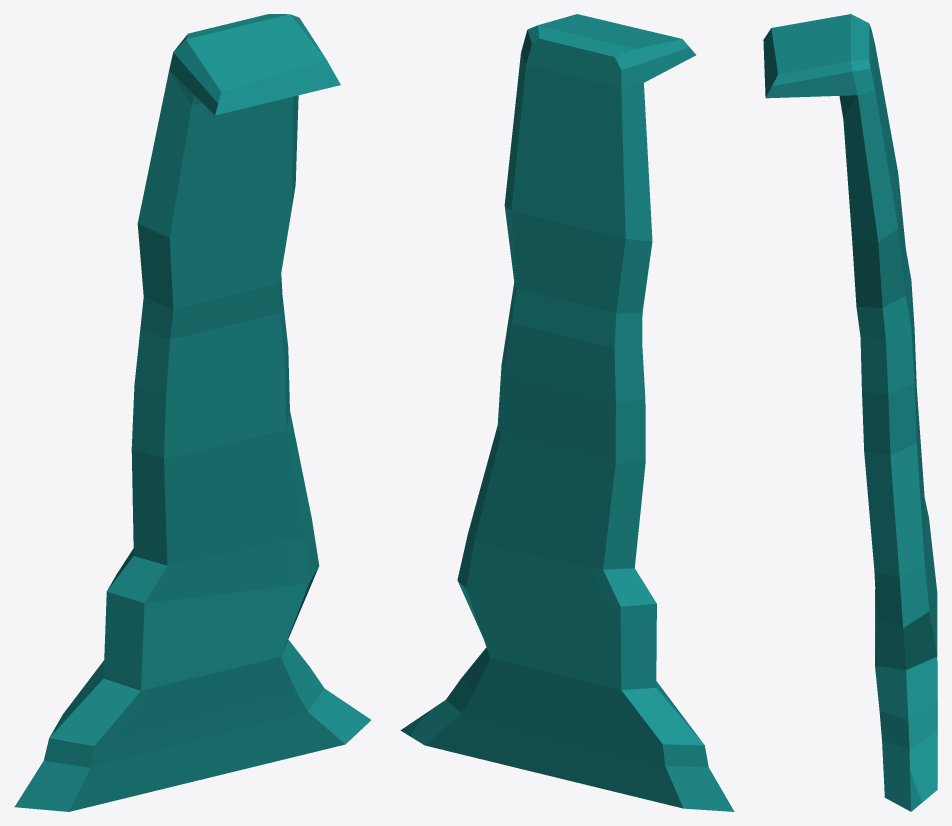
The model's file is CascadaAnimada_000015.obj.
3 renders of one model, left to right at view 1: azimuth 30°, elevation 25°; view 2: azimuth 150°, elevation 25°; view 3: azimuth 270°, elevation 25°, orthographic. The views are drawn at different scales.
Visible parts, largest first — view 1: Cube.053, Cube.054; view 2: Cube.053, Cube.054; view 3: Cube.053, Cube.054.
Part boxes in pixels (<box>): Cube.053: <box>14,14,370,811</box>; Cube.054: <box>169,14,340,115</box>; Cube.053: <box>400,25,734,811</box>; Cube.054: <box>538,14,695,82</box>; Cube.053: <box>839,14,937,811</box>; Cube.054: <box>763,14,857,98</box>.
Bounding box in the file's own units: 136 × 277 × 62.23.
